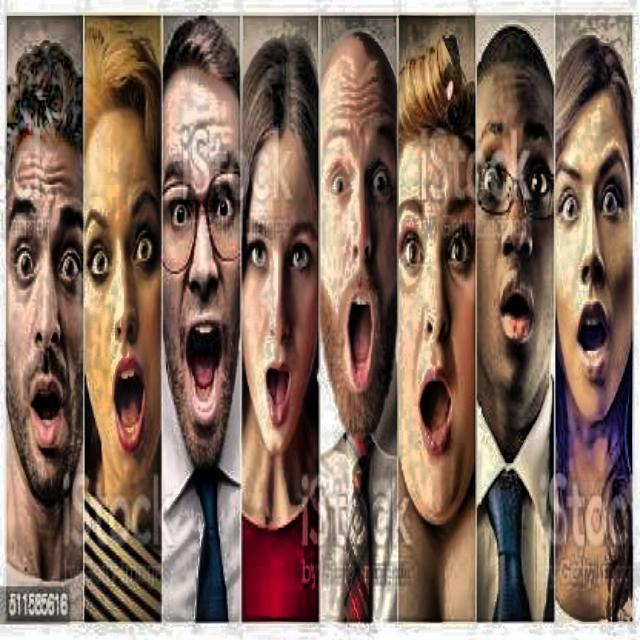surprised: (395, 18, 476, 544), (83, 25, 161, 500), (158, 29, 239, 475), (317, 22, 398, 442), (242, 27, 317, 467), (555, 23, 630, 453), (2, 84, 78, 497), (477, 17, 550, 424)
